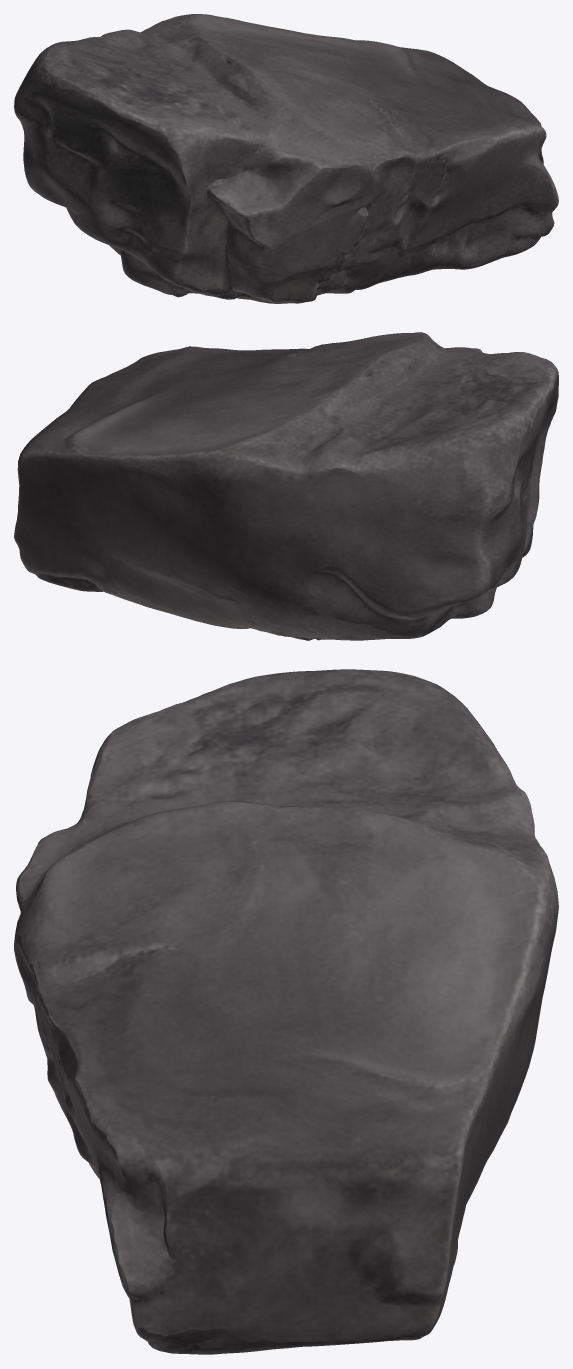
The picture shows the model from 3 angles, top to bottom: view 1: azimuth 30°, elevation 25°; view 2: azimuth 150°, elevation 25°; view 3: azimuth 270°, elevation 25°; orthographic projection. The views are drawn at different scales.
Visible parts, largest first — view 1: world; view 2: world; view 3: world.
Part boxes in pixels (x1,y1,x2,y2): world: [14, 14, 558, 303]; world: [14, 332, 558, 640]; world: [14, 669, 558, 1354].
Bounding box in the file's own units: 3.5 × 1.76 × 2.35.
1 material, 1 textured.
